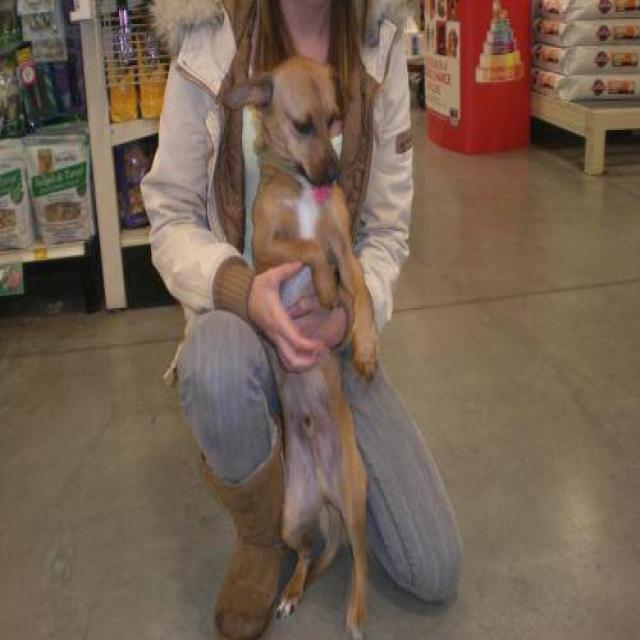Dog: (208, 39, 357, 196)
